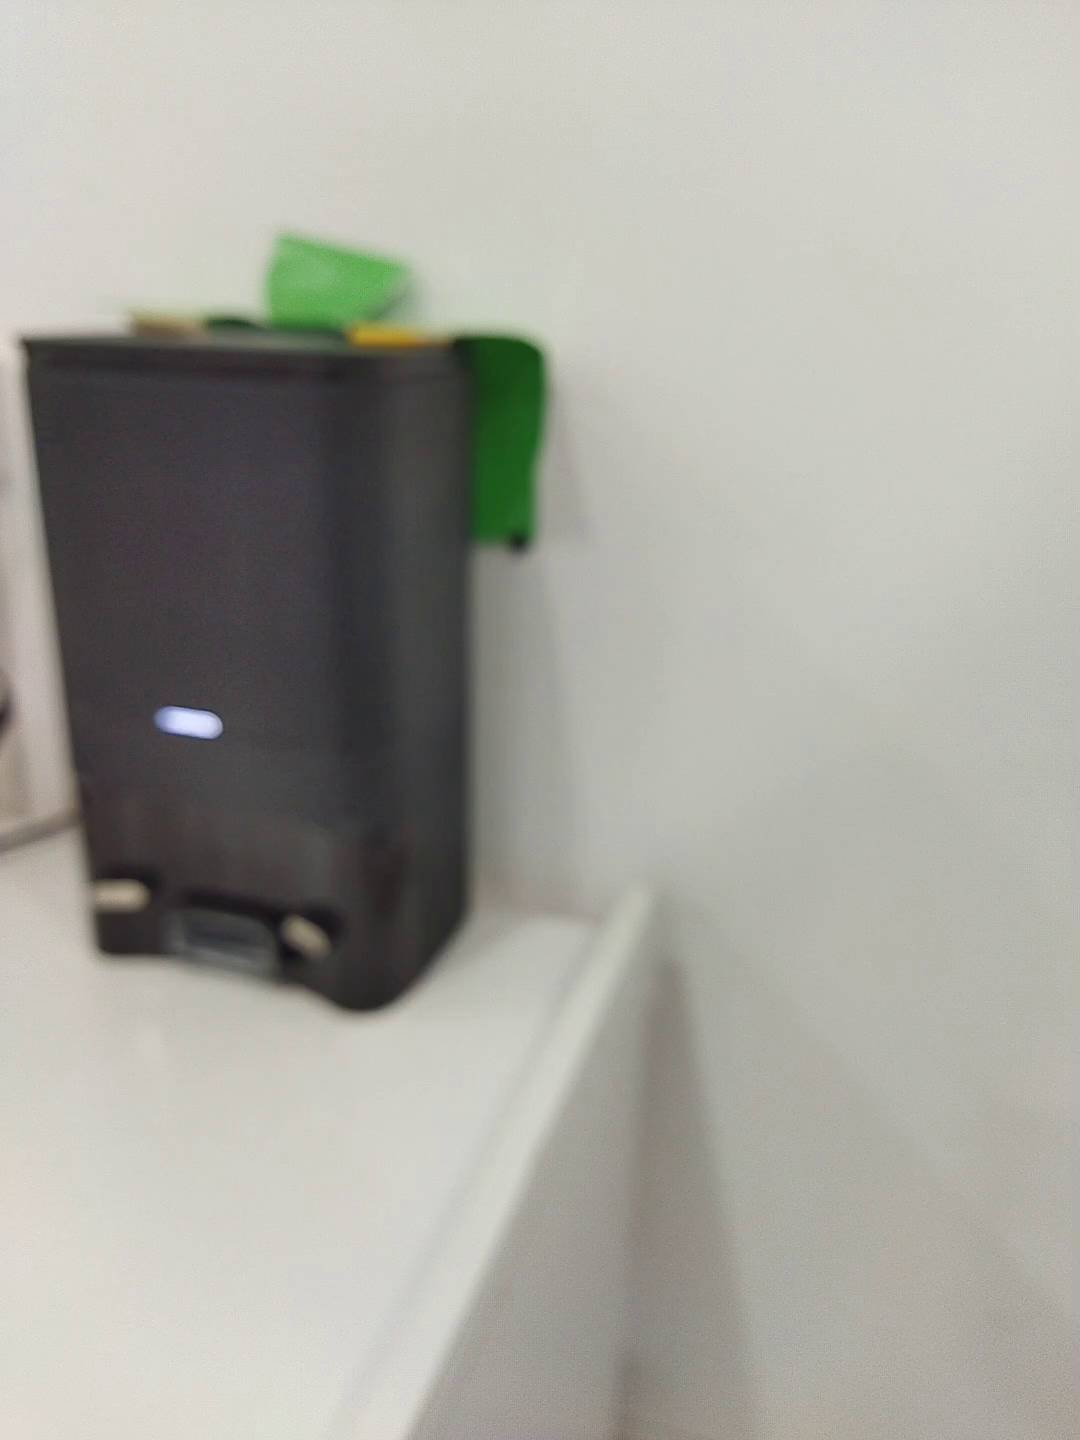dust collecting barrel: (19, 320, 475, 1015)
